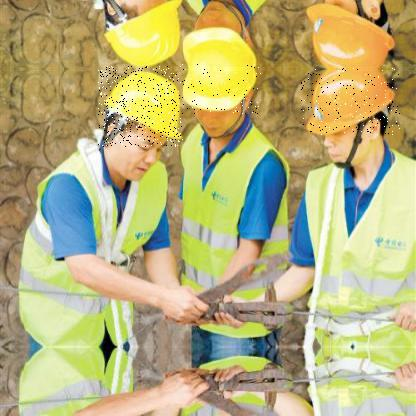safetyhelmet: (98, 66, 184, 148), (301, 68, 401, 136), (181, 64, 262, 115)
